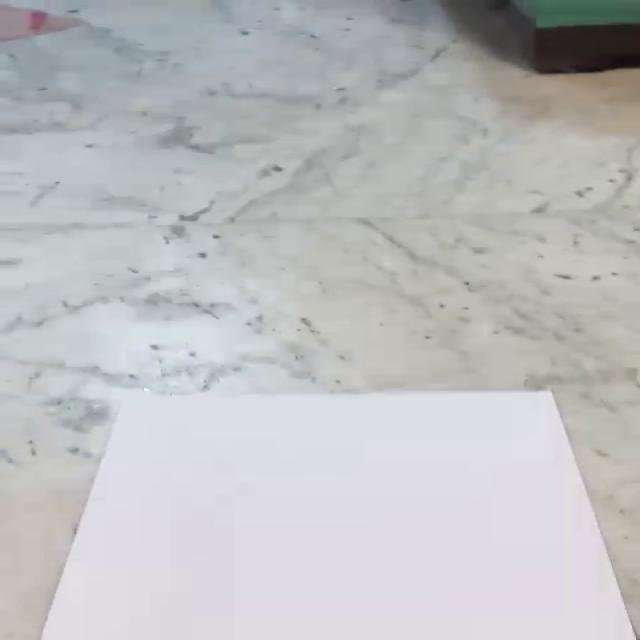road: (39, 390, 637, 640)
